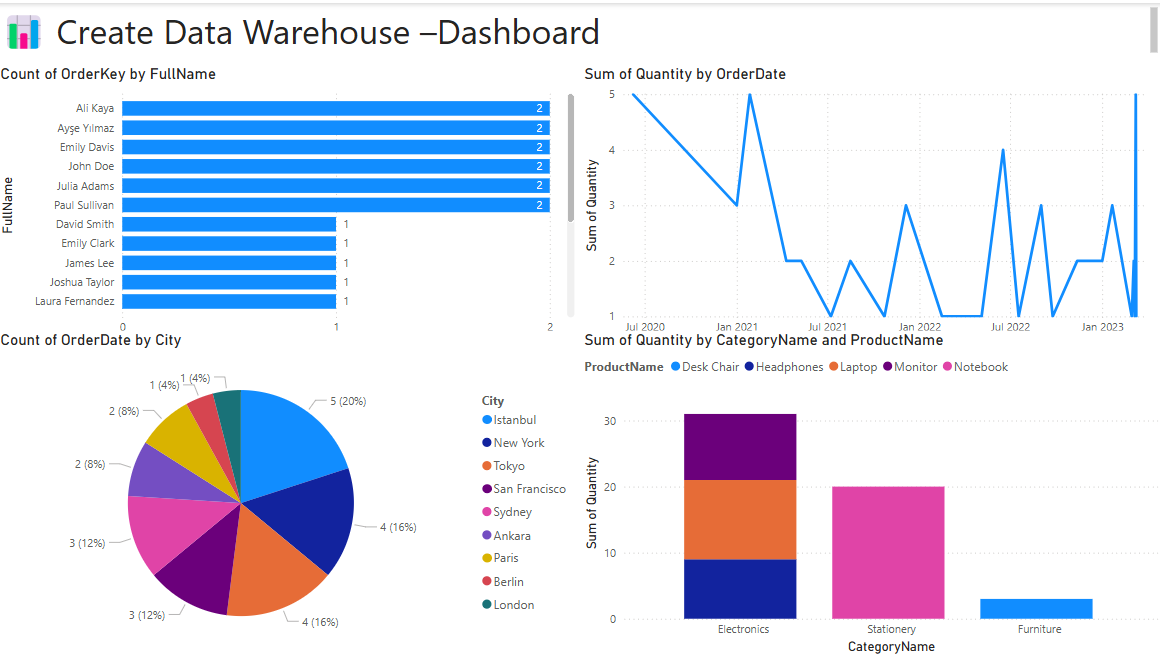

The dashboard page shown, as its layout file describes it:
{"tool":"powerbi","page":{"name":"📊 Create Data Warehouse –Dashboard","canvas":[1280,720],"ordinal":0},"visuals":[{"type":"clusteredBarChart","fields":{"Category":["DimCustomer.FullName"]},"box":[10,0,280,280],"z":0},{"type":"clusteredBarChart","fields":{"Category":["DimCustomer.FullName"],"Y":["FactOrder.OrderKey"]},"box":[0,67.6,640.2,320.9],"z":1000},{"type":"pieChart","fields":{"Category":["DimCustomer.City"],"Y":["FactOrder.OrderDate"]},"box":[0,360.2,640.2,360.2],"z":2000},{"type":"lineChart","fields":{"Y":["FactOrder.Quantity"],"Category":["FactOrder.OrderDate"]},"box":[640.2,67.6,640.2,320.9],"z":3000},{"type":"columnChart","fields":{"Category":["DimCategory.CategoryName"],"Y":["FactOrder.Quantity"],"Series":["DimProduct.ProductName"]},"box":[640.2,360.2,640.2,360.2],"z":3001},{"type":"textbox","box":[0,0,1280.3,67.6],"z":3002}]}

Visuals, with their boxes in screenshot pixels (x1, y1, x2, y2), scaled from the page's 1280x720 canvas onto the 1160x657 screenshot:
clusteredBarChart - DimCustomer.FullName: <box>9,0,263,256</box>
clusteredBarChart - DimCustomer.FullName x FactOrder.OrderKey: <box>0,62,580,355</box>
pieChart - DimCustomer.City x FactOrder.OrderDate: <box>0,329,580,656</box>
lineChart - FactOrder.Quantity x FactOrder.OrderDate: <box>580,62,1159,355</box>
columnChart - DimCategory.CategoryName x FactOrder.Quantity: <box>580,329,1159,656</box>
textbox: <box>0,0,1159,62</box>
